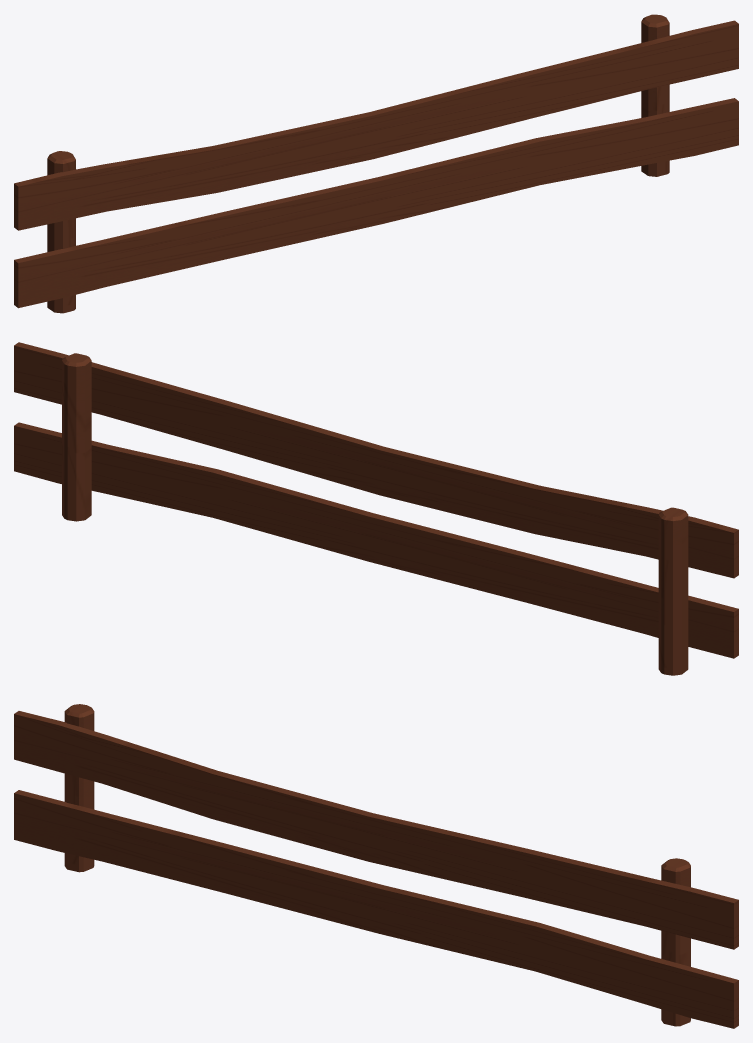
File: FenceLong.fbx
3 renders of one model, top to bottom at view 1: azimuth 30°, elevation 25°; view 2: azimuth 150°, elevation 25°; view 3: azimuth 330°, elevation 25°, orthographic. The views are drawn at different scales.
Visible parts, largest first — view 1: FenceLong; view 2: FenceLong; view 3: FenceLong.
Part boxes in pixels (<box>): FenceLong: <box>14,14,738,313</box>; FenceLong: <box>14,342,738,675</box>; FenceLong: <box>14,704,738,1028</box>.
Size of the model in its own units: 3.96 by 0.8104 by 0.2863.
1 material, 1 textured.
